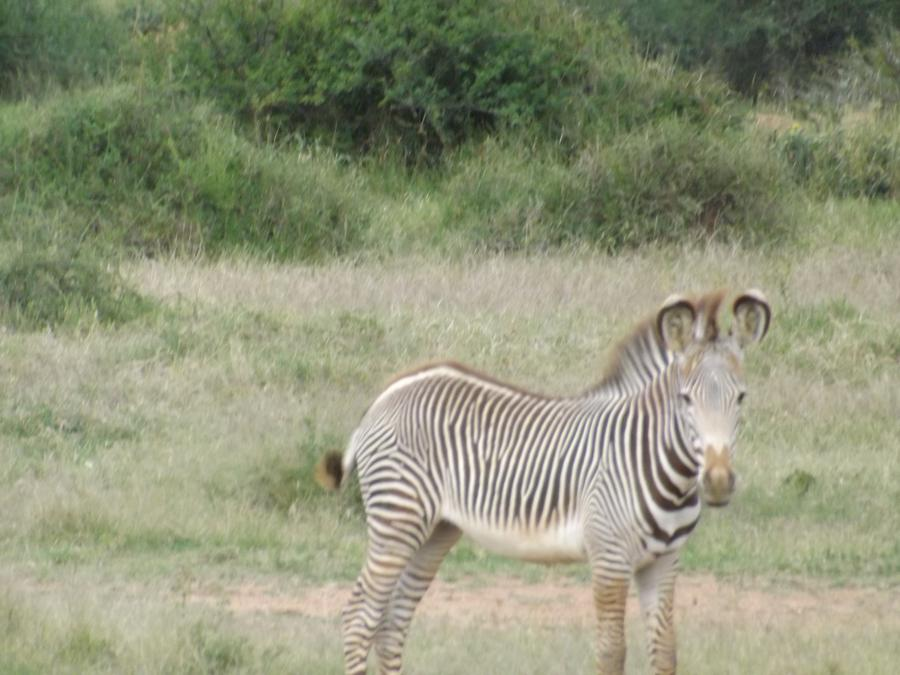zebra_grevys: (339, 349, 659, 555)
